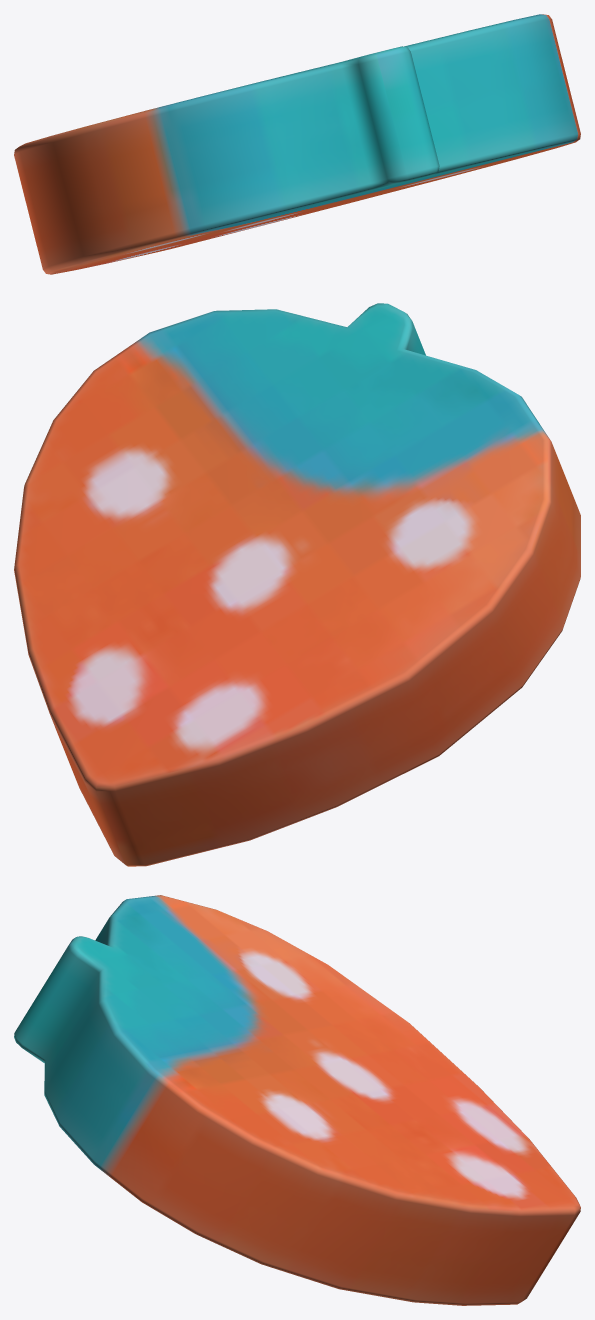
The model's file is GTFruitEraser.obj.
3 renders of one model, top to bottom at view 1: azimuth 30°, elevation 25°; view 2: azimuth 150°, elevation 25°; view 3: azimuth 270°, elevation 25°, orthographic. The views are drawn at different scales.
Parts seen in each view (by area): view 1: shuiGuoXiangPi; view 2: shuiGuoXiangPi; view 3: shuiGuoXiangPi.
Part boxes in pixels (x1,y1,x2,y2): shuiGuoXiangPi: (14,14,580,274); shuiGuoXiangPi: (14,303,580,866); shuiGuoXiangPi: (14,895,580,1305).
Bounding box in the file's own units: 0.5803 × 0.4382 × 0.6391.
